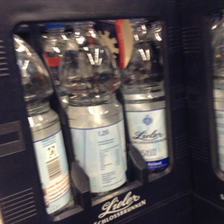water: (58, 22, 127, 193), (13, 27, 75, 212), (121, 18, 167, 176)
